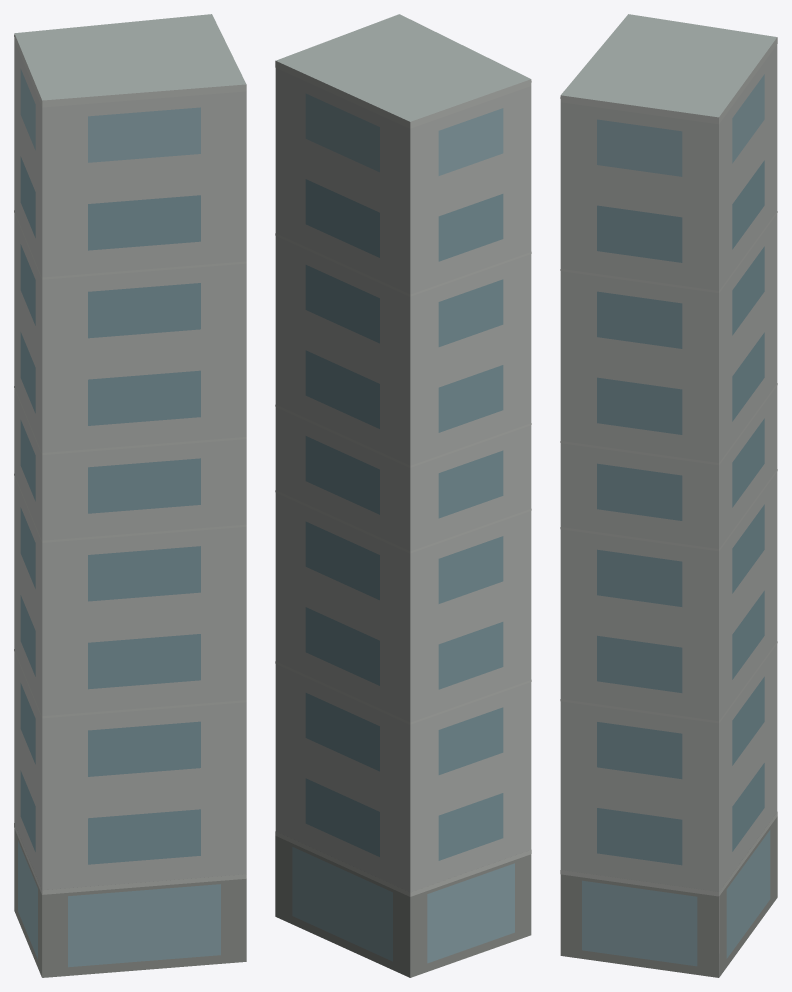
The model's file is survey-upis-32737907.glb.
3 renders of one model, left to right at view 1: azimuth 30°, elevation 25°; view 2: azimuth 150°, elevation 25°; view 3: azimuth 270°, elevation 25°, orthographic. The views are drawn at different scales.
Visible parts, largest first — view 1: survey-upis-32737907.tmp; view 2: survey-upis-32737907.tmp; view 3: survey-upis-32737907.tmp.
Part boxes in pixels (left/top/right/bottom): survey-upis-32737907.tmp: left=14, top=14, right=246, bottom=977; survey-upis-32737907.tmp: left=275, top=14, right=531, bottom=977; survey-upis-32737907.tmp: left=560, top=14, right=777, bottom=977.
Bounding box in the file's own units: 7.88 × 30.5 × 6.99.
